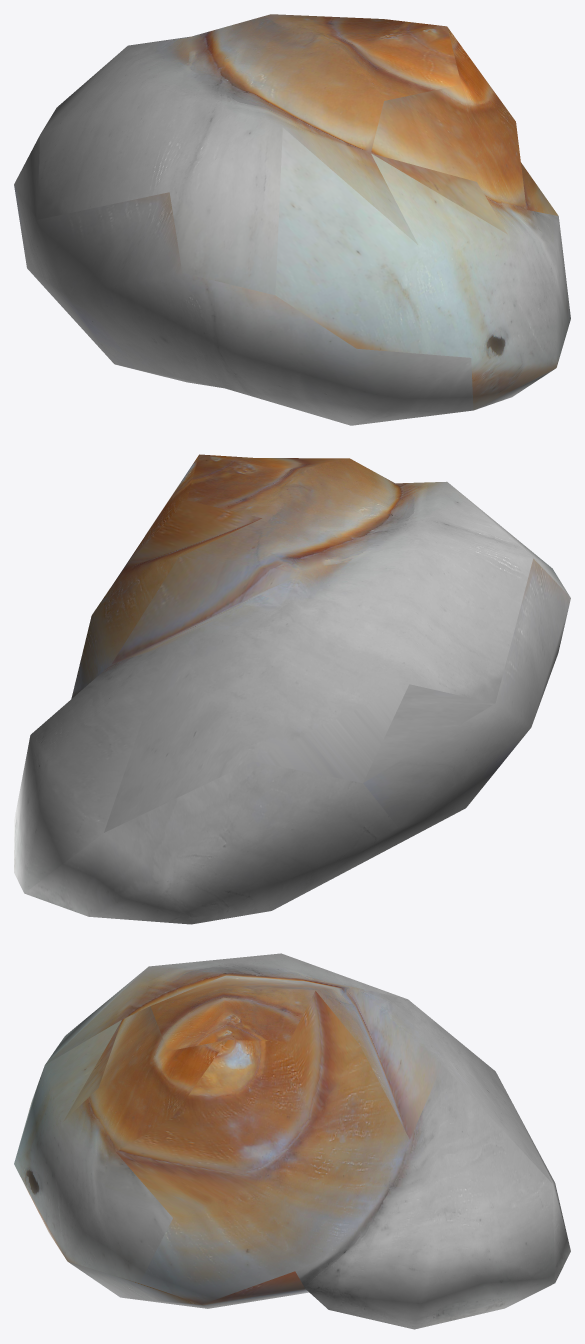
File: SM_Seashell_12_LOD2.fbx
3 views of the same model, one above another, from view 1: azimuth 30°, elevation 25°; view 2: azimuth 150°, elevation 25°; view 3: azimuth 270°, elevation 25° (orthographic). The views are drawn at different scales.
Visible parts, largest first — view 1: SM_Seashell_12_LOD2; view 2: SM_Seashell_12_LOD2; view 3: SM_Seashell_12_LOD2.
Part boxes in pixels (left/top/right/bottom): SM_Seashell_12_LOD2: left=14, top=14, right=570, bottom=425; SM_Seashell_12_LOD2: left=14, top=454, right=570, bottom=924; SM_Seashell_12_LOD2: left=14, top=953, right=570, bottom=1329.
Size of the model in its own units: 7.16 by 5.12 by 9.38.
1 material, 1 textured.
